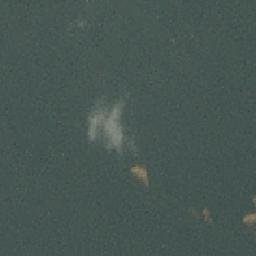cloud: (84, 96, 130, 153)
debris: (130, 164, 149, 183), (194, 206, 212, 223), (241, 210, 256, 228)
